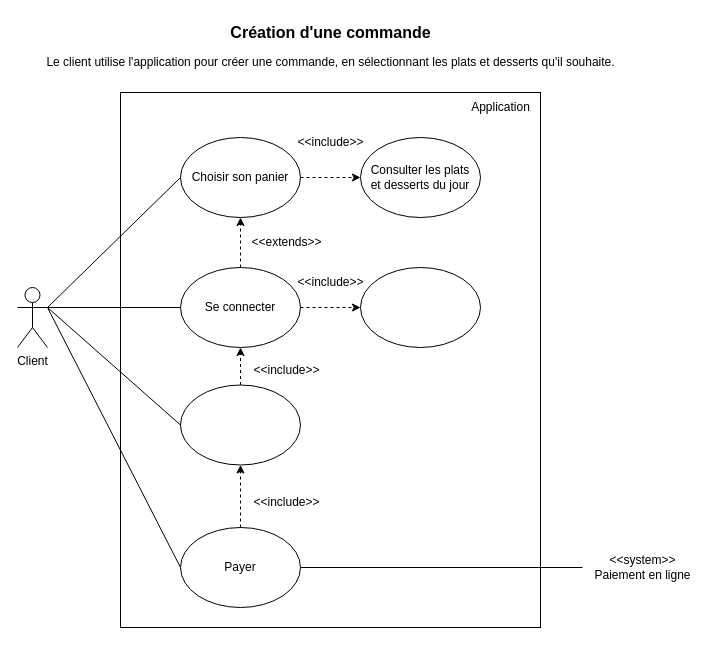
Image size: 720x645. Some labels were removed from this diagram. The centre of each missing label's shape, as x and y in pixels:
commander: (x=240, y=424)
S'inscrire: (x=420, y=307)
